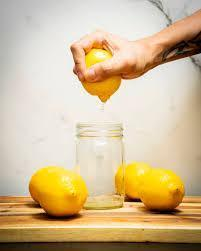lemon: (78, 48, 122, 102), (36, 170, 87, 216), (139, 168, 184, 210), (115, 162, 152, 200), (29, 166, 64, 204)
